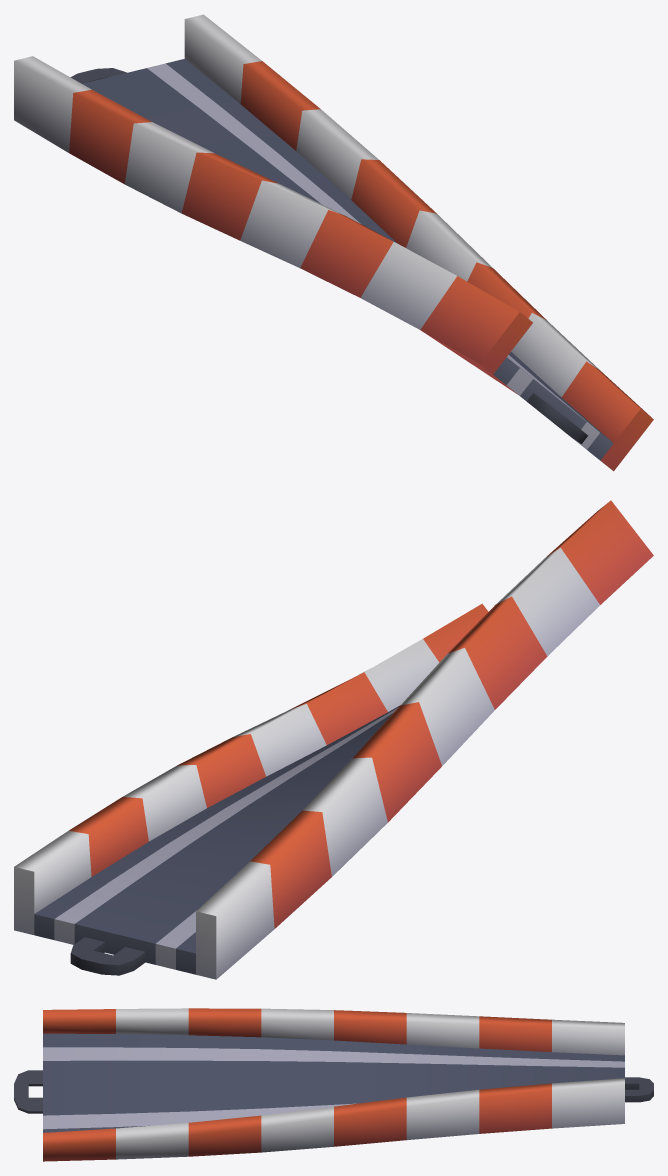
The model's file is track-road-narrow-straight-skew-left.glb.
The picture shows the model from 3 angles, top to bottom: view 1: azimuth 30°, elevation 25°; view 2: azimuth 150°, elevation 25°; view 3: azimuth 270°, elevation 25°; orthographic projection. The views are drawn at different scales.
Visible parts, largest first — view 1: track-road-narrow-straight-skew-left; view 2: track-road-narrow-straight-skew-left; view 3: track-road-narrow-straight-skew-left.
Boxes of the visible parts, x1,y1,x2,y2 form: track-road-narrow-straight-skew-left: [14, 14, 653, 471]; track-road-narrow-straight-skew-left: [14, 500, 653, 979]; track-road-narrow-straight-skew-left: [14, 1008, 653, 1161].
Bounding box in the file's own units: 1.08 × 0.9192 × 4.4.
